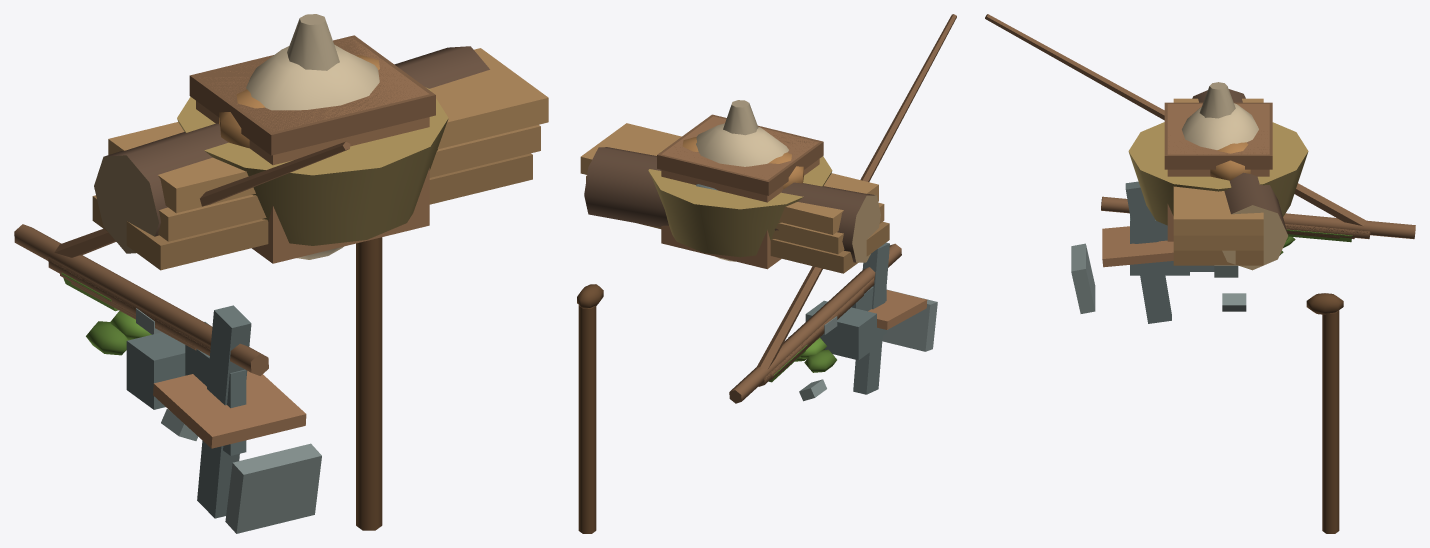
File: resident_props.glb
3 renders of one model, left to right at view 1: azimuth 30°, elevation 25°; view 2: azimuth 150°, elevation 25°; view 3: azimuth 270°, elevation 25°, orthographic. The views are drawn at different scales.
Visible parts, largest first — view 1: item_plank, item_basket, item_crate, tool_hoe, item_log, item_sack, cane, tool_peel, tool_pick, tool_hammer, tool_axe, tool_rod (+2 smaller); view 2: item_log, item_basket, item_plank, item_crate, cane, tool_hoe, item_sack, tool_rod, tool_hammer, tool_pick, tool_peel, tool_herbs (+2 smaller); view 3: item_basket, item_plank, item_crate, cane, tool_hoe, item_log, item_sack, tool_pick, tool_rod, tool_peel, tool_axe, tool_sickle.
Part boxes in pixels (x1,y1,x2,y2): item_plank: [92, 48, 548, 270]; item_basket: [177, 55, 448, 245]; item_crate: [189, 35, 435, 263]; tool_hoe: [14, 224, 321, 533]; item_log: [94, 46, 489, 253]; item_sack: [246, 14, 379, 259]; cane: [356, 237, 382, 530]; tool_peel: [60, 274, 306, 448]; tool_pick: [49, 262, 251, 518]; tool_hammer: [49, 257, 208, 409]; tool_axe: [48, 257, 246, 455]; tool_rod: [54, 141, 350, 257]; item_log: [584, 147, 880, 262]; item_basket: [648, 137, 832, 257]; item_plank: [580, 123, 889, 273]; item_crate: [657, 114, 823, 269]; cane: [577, 284, 603, 533]; tool_hoe: [729, 243, 937, 403]; item_sack: [696, 100, 788, 261]; tool_rod: [756, 14, 956, 369]; tool_hammer: [765, 300, 876, 383]; tool_pick: [764, 242, 889, 394]; tool_peel: [770, 289, 927, 379]; tool_herbs: [769, 337, 836, 382]; item_basket: [1128, 122, 1308, 225]; item_plank: [1173, 98, 1263, 265]; item_crate: [1164, 102, 1272, 241]; cane: [1306, 293, 1343, 533]; tool_hoe: [1071, 196, 1415, 313]; item_log: [1192, 89, 1288, 270]; item_sack: [1182, 82, 1258, 149]; tool_pick: [1125, 181, 1369, 323]; tool_rod: [985, 14, 1366, 226]; tool_peel: [1102, 225, 1354, 267]; tool_axe: [1130, 216, 1370, 275]; tool_sickle: [1214, 227, 1339, 311].
Bounding box in the file's own units: 0.5223 × 0.8139 × 0.7465.
